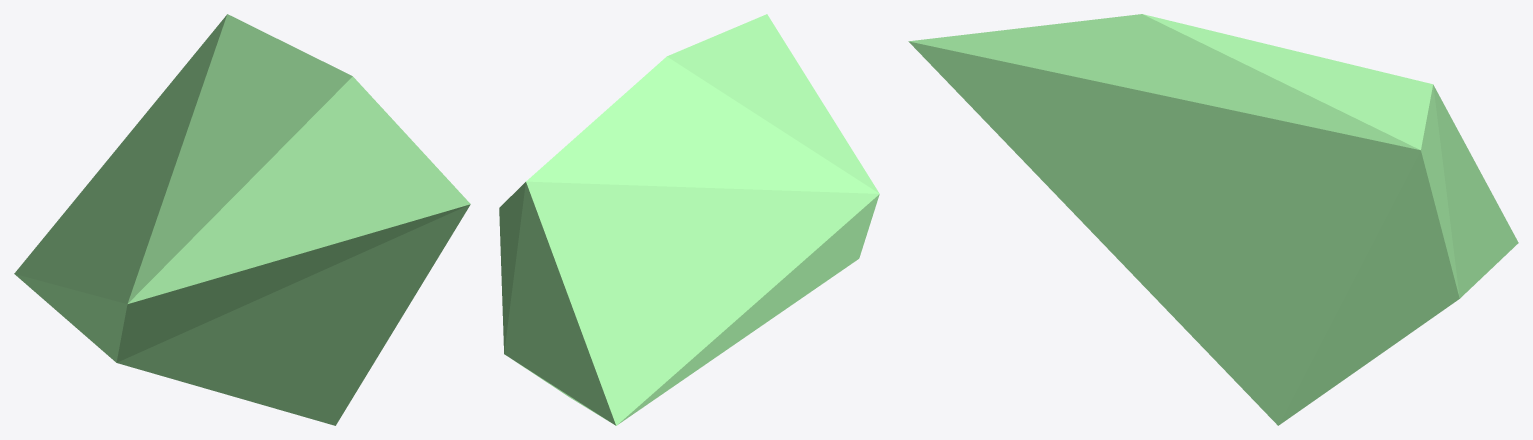
File: dvkr_robot_L3_dx_respondable_TOOL2_coll_7.dae
3 renders of one model, left to right at view 1: azimuth 30°, elevation 25°; view 2: azimuth 150°, elevation 25°; view 3: azimuth 270°, elevation 25°, orthographic. The views are drawn at different scales.
Visible parts, largest first — view 1: Node_0000023514CD8970; view 2: Node_0000023514CD8970; view 3: Node_0000023514CD8970.
Part boxes in pixels (left/top/right/bottom): Node_0000023514CD8970: left=14, top=14, right=470, bottom=425; Node_0000023514CD8970: left=499, top=14, right=879, bottom=425; Node_0000023514CD8970: left=908, top=14, right=1518, bottom=425.
Bounding box in the file's own units: 0.0024 × 0.0029 × 0.00415.
